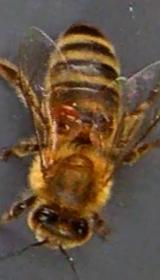varroa_mite: (51, 100, 80, 134)
